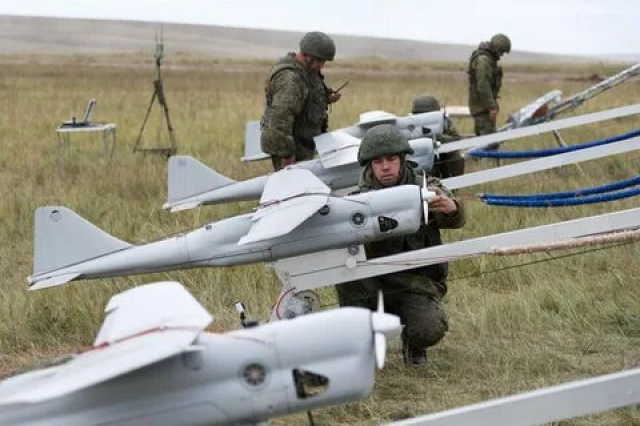military drone: (0, 279, 402, 426), (26, 167, 440, 290), (162, 130, 441, 212), (239, 105, 450, 162)
